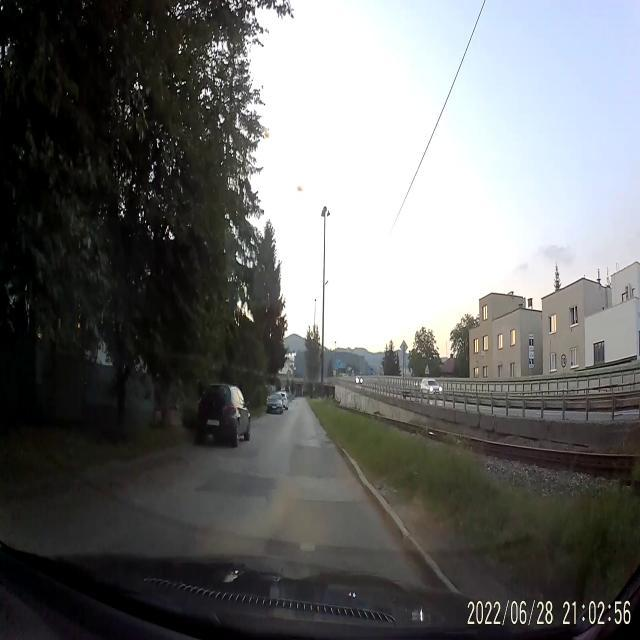Pothole: (322, 440, 332, 444), (308, 437, 313, 441), (312, 435, 318, 438)
